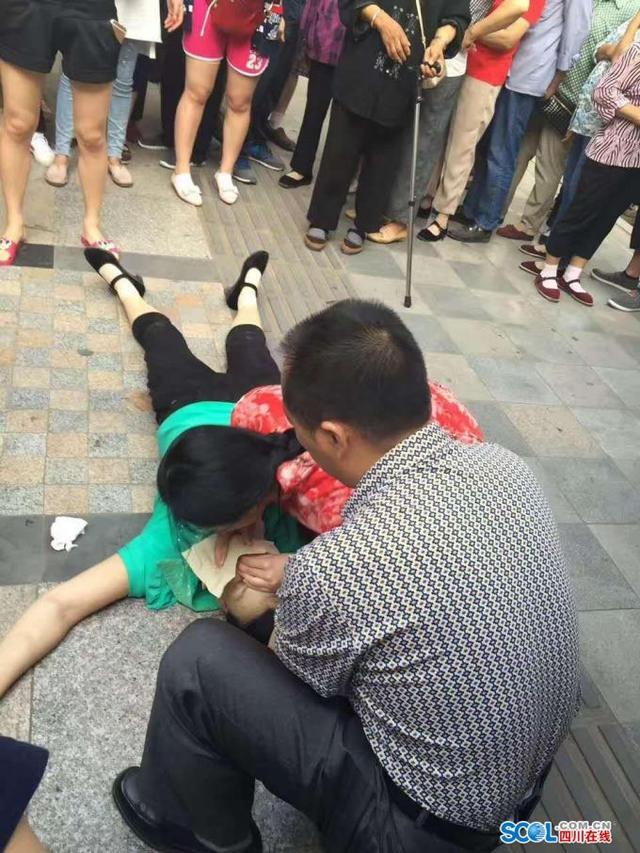10+: (3, 1, 640, 816)
down: (1, 230, 315, 684)
